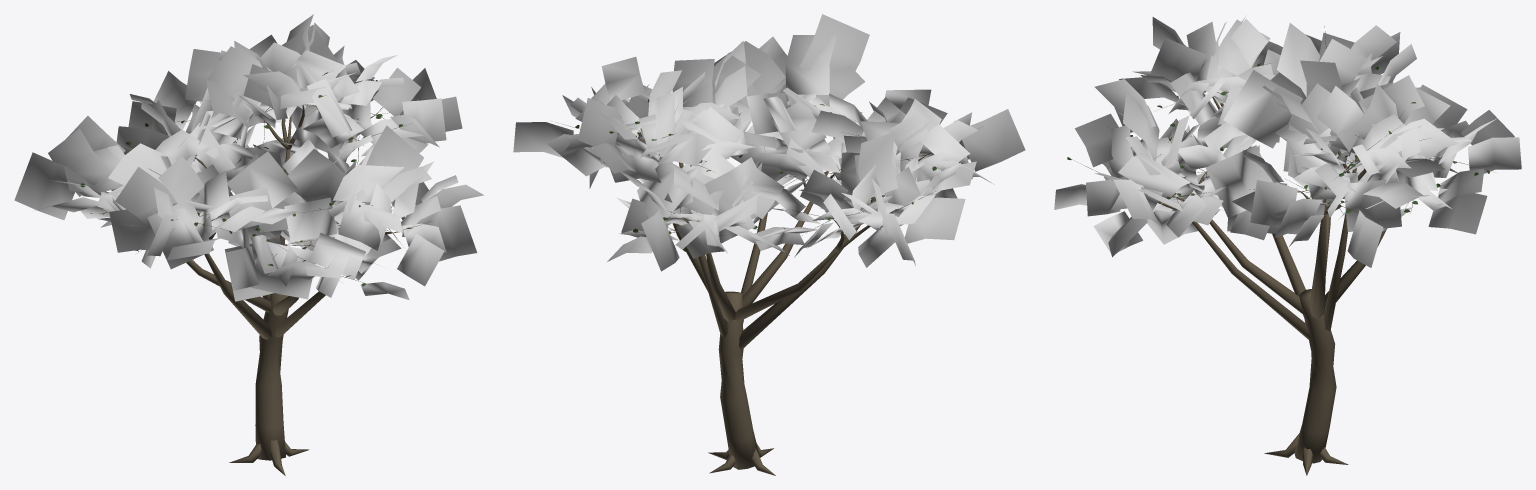
The model's file is V7_CheneVert_0_Niveau1.fbx.
The picture shows the model from 3 angles, left to right: view 1: azimuth 30°, elevation 25°; view 2: azimuth 150°, elevation 25°; view 3: azimuth 270°, elevation 25°; orthographic projection. The views are drawn at different scales.
Parts seen in each view (by area): view 1: V7_CheneVert_0_Detail1; view 2: V7_CheneVert_0_Detail1; view 3: V7_CheneVert_0_Detail1.
Part boxes in pixels (<box>): V7_CheneVert_0_Detail1: <box>14,14,483,475</box>; V7_CheneVert_0_Detail1: <box>513,14,1025,475</box>; V7_CheneVert_0_Detail1: <box>1054,15,1521,475</box>.
Bounding box in the file's own units: 697 × 619 × 650.
